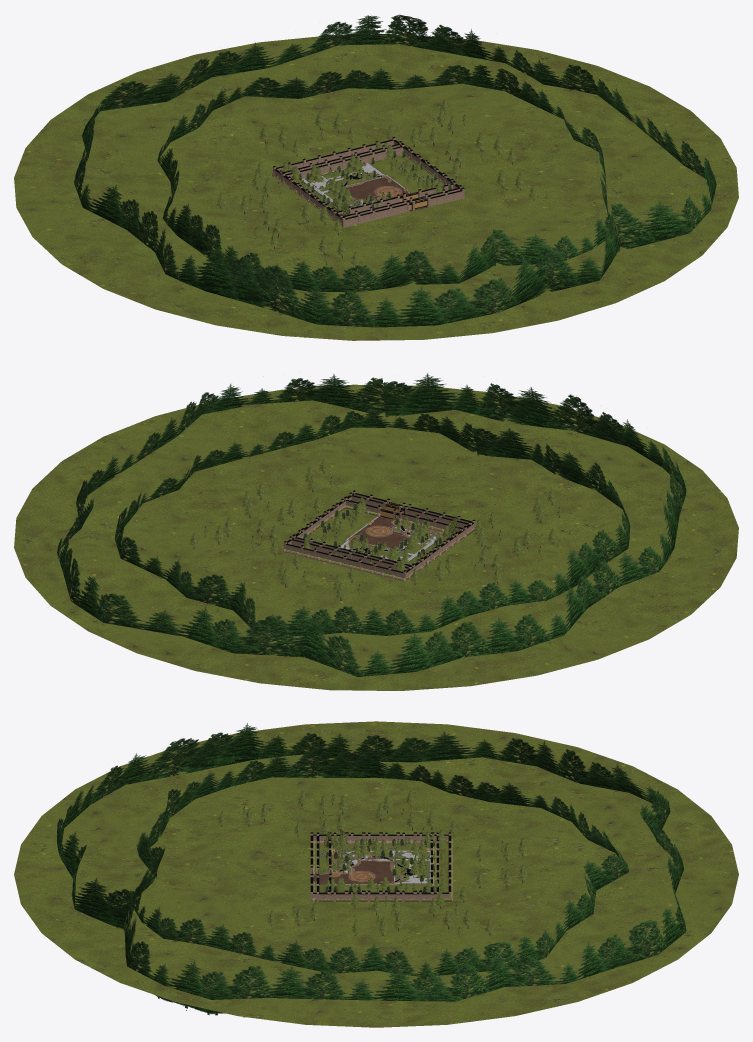
File: scena.gltf
3 views of the same model, one above another, from view 1: azimuth 30°, elevation 25°; view 2: azimuth 150°, elevation 25°; view 3: azimuth 270°, elevation 25° (orthographic).
Visible parts, largest first — view 1: BG, Land-4-zabor-1, Land-1, Land-4, Land-2-zabor-1, Land-1-zabor-1, Land-3, Land-2; view 2: BG, Land-2-zabor-1, Land-1, Land-4, Land-1-zabor-1, Land-4-zabor-1, Land-2, Land-3, Land-2-zabor-2; view 3: BG, Land-1, Land-1-zabor-1, Land-3, Land-4, Land-2, Land-2-zabor-1, Land-4-zabor-1.
Part boxes in pixels (<box>): BG: <box>14,14,738,340</box>; Land-4-zabor-1: <box>282,143,464,227</box>; Land-1: <box>291,144,442,215</box>; Land-4: <box>294,150,451,214</box>; Land-2-zabor-1: <box>273,137,454,220</box>; Land-1-zabor-1: <box>279,141,462,218</box>; Land-3: <box>287,142,431,210</box>; Land-2: <box>281,141,440,211</box>; BG: <box>14,373,738,690</box>; Land-2-zabor-1: <box>283,497,466,580</box>; Land-1: <box>307,497,459,565</box>; Land-4: <box>302,499,445,563</box>; Land-1-zabor-1: <box>289,492,471,569</box>; Land-4-zabor-1: <box>293,490,475,570</box>; Land-2: <box>304,503,455,571</box>; Land-3: <box>303,502,449,570</box>; Land-2-zabor-2: <box>283,505,465,581</box>; BG: <box>14,721,738,1027</box>; Land-1: <box>313,832,436,892</box>; Land-1-zabor-1: <box>316,832,438,901</box>; Land-3: <box>336,834,448,892</box>; Land-4: <box>313,838,430,892</box>; Land-2: <box>332,830,447,892</box>; Land-2-zabor-1: <box>329,832,451,898</box>; Land-4-zabor-1: <box>310,832,432,901</box>.
Bounding box in the file's own units: 62 × 6.27 × 62.
Materials: 14 (14 with a texture image).
